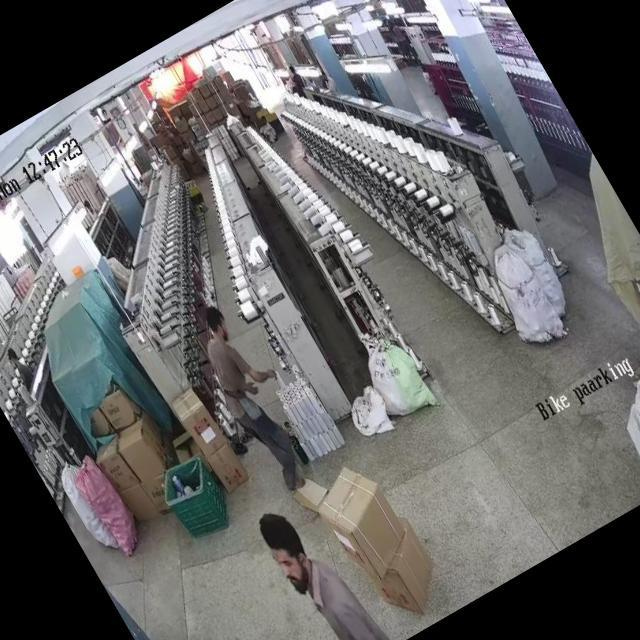person: (186, 304, 320, 500), (258, 497, 378, 640)
